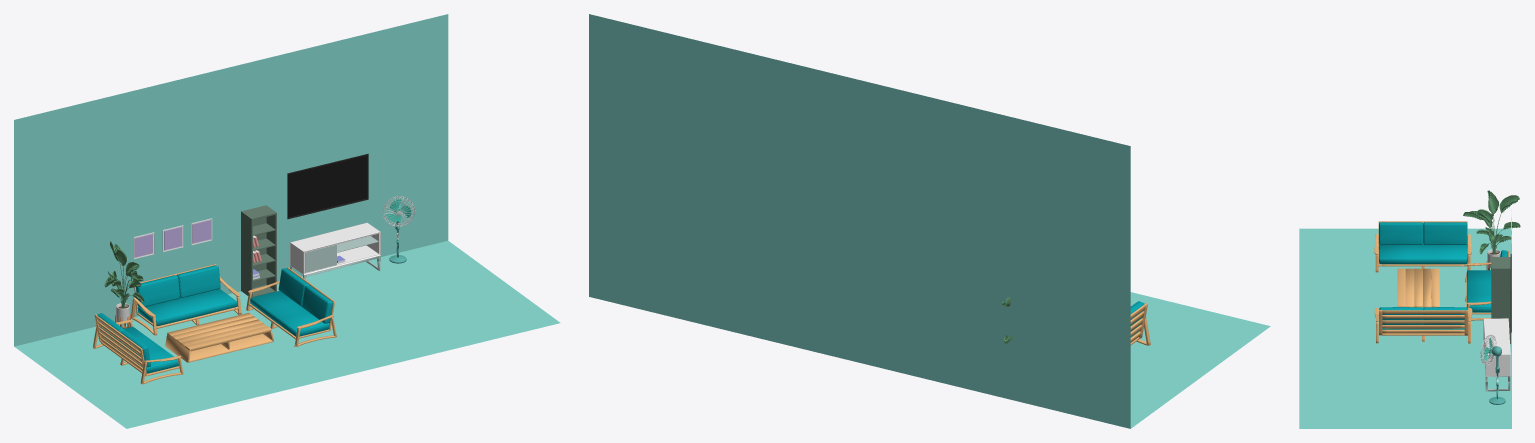
Rendered from house-playtime.fbx.
3 renders of one model, left to right at view 1: azimuth 30°, elevation 25°; view 2: azimuth 150°, elevation 25°; view 3: azimuth 270°, elevation 25°, orthographic. The views are drawn at different scales.
Parts seen in each view (by area): view 1: Plane.004_Plane.007, Pillow3.1, Plane.003_Plane.005, Chocofur_free_08_wood, Wooden_Table.1, Pillow3.004, uploads_files_2947409_bookshelf, seat.002, Pillow3.003, vase_01_corona_004, seat, seat.004 (+1 smaller); view 2: Plane.004_Plane.007, seat.002; view 3: Plane.004_Plane.007, Pillow3.003, seat.004, Wooden_Table.1, Chocofur_free_08_wood, uploads_files_2947409_bookshelf, vase_01_corona_004, Pillow3.1, Pillow3.004, seat.002, seat, Mesh_Mesh.001 (+1 smaller).
Part boxes in pixels (x1,y1,x2,y2): Plane.004_Plane.007: [14, 14, 560, 428]; Pillow3.1: [136, 265, 237, 326]; Plane.003_Plane.005: [287, 153, 368, 219]; Chocofur_free_08_wood: [290, 222, 380, 279]; Wooden_Table.1: [165, 313, 273, 362]; Pillow3.004: [250, 268, 332, 336]; uploads_files_2947409_bookshelf: [241, 205, 276, 297]; seat.002: [92, 314, 183, 384]; Pillow3.003: [97, 313, 178, 373]; vase_01_corona_004: [104, 241, 144, 308]; seat: [131, 264, 241, 335]; seat.004: [246, 267, 336, 346]; Plane.004_Plane.007: [589, 14, 1270, 428]; seat.002: [1130, 303, 1150, 345]; Plane.004_Plane.007: [1299, 228, 1511, 428]; Pillow3.003: [1379, 222, 1467, 264]; seat.004: [1374, 308, 1472, 343]; Wooden_Table.1: [1397, 268, 1439, 308]; Chocofur_free_08_wood: [1483, 318, 1510, 391]; uploads_files_2947409_bookshelf: [1491, 257, 1510, 343]; vase_01_corona_004: [1463, 190, 1520, 254]; Pillow3.1: [1467, 250, 1507, 312]; Pillow3.004: [1379, 307, 1467, 329]; seat.002: [1374, 221, 1471, 272]; seat: [1465, 250, 1509, 320]; Mesh_Mesh.001: [1480, 334, 1496, 365].
Bounding box in the file's own units: 4244 × 2126 × 1982.
